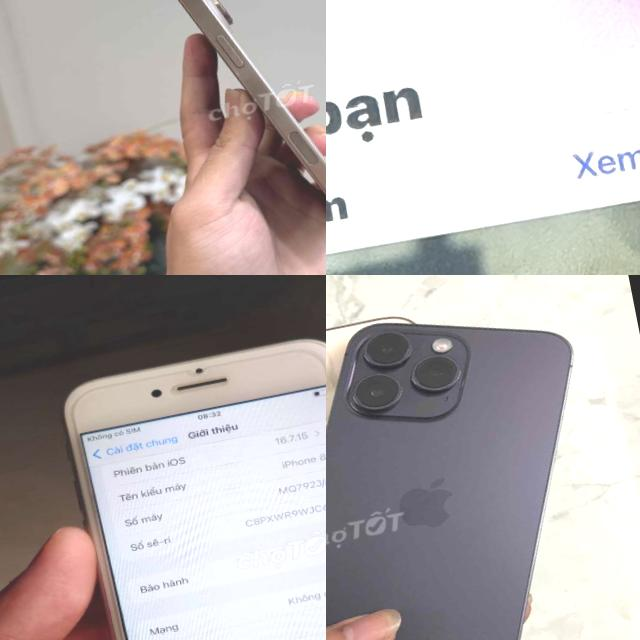gen_11: (326, 0, 640, 275)
gen_14: (326, 275, 639, 640)
gen_16: (145, 0, 326, 275)
gen_7_8: (37, 310, 326, 640)
